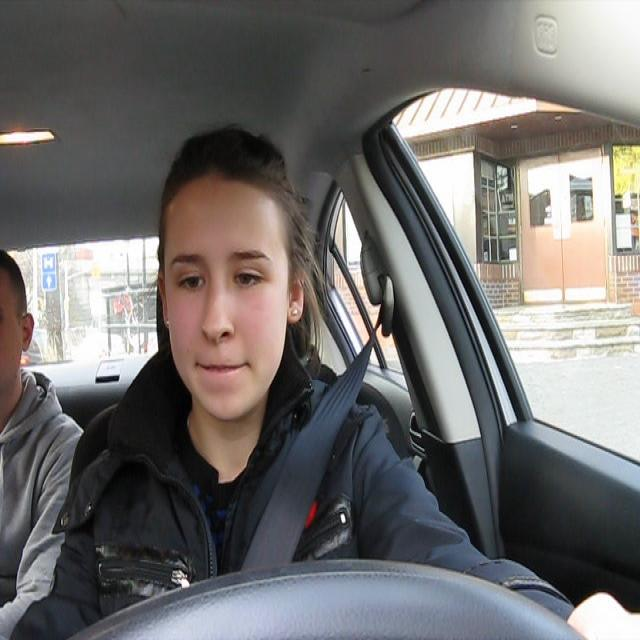sem_oculos: (152, 252, 322, 296)
